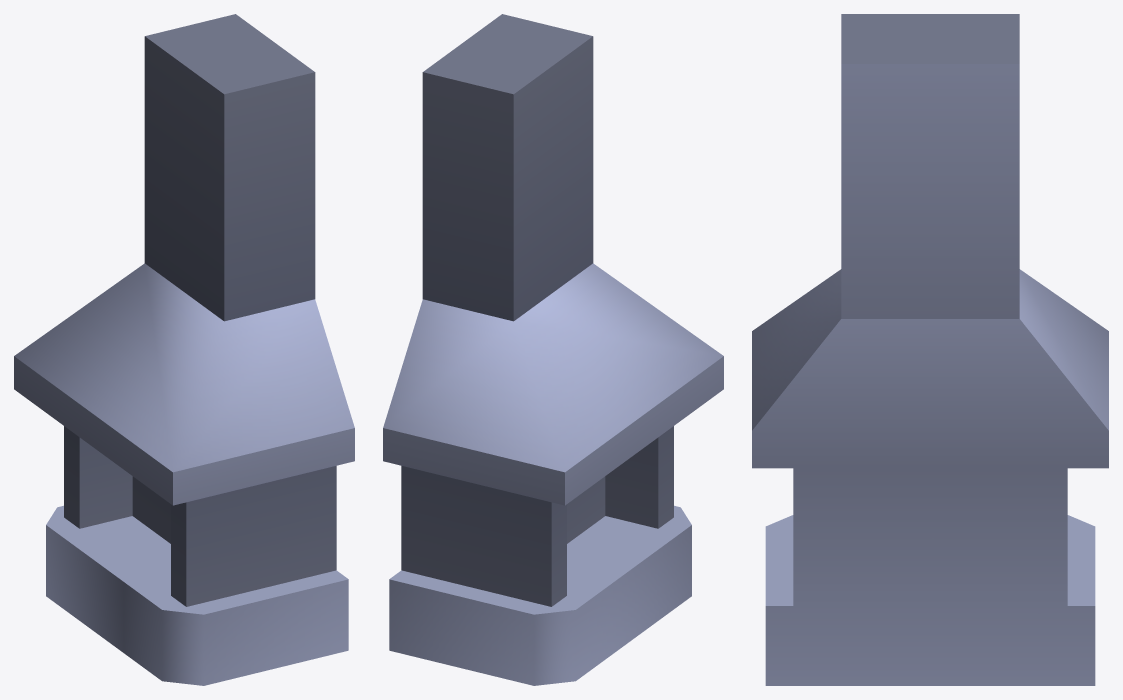
The model's file is chimney-base.glb.
The picture shows the model from 3 angles, left to right: view 1: azimuth 30°, elevation 25°; view 2: azimuth 150°, elevation 25°; view 3: azimuth 270°, elevation 25°; orthographic projection. The views are drawn at different scales.
Parts seen in each view (by area): view 1: chimney-base; view 2: chimney-base; view 3: chimney-base.
Boxes of the visible parts, left/top/right/bottom form: chimney-base: left=14, top=14, right=354, bottom=685; chimney-base: left=383, top=14, right=723, bottom=685; chimney-base: left=752, top=14, right=1108, bottom=685.
Size of the model in its own units: 0.3438 by 1 by 0.52.
Materials: 1 (1 with a texture image).
